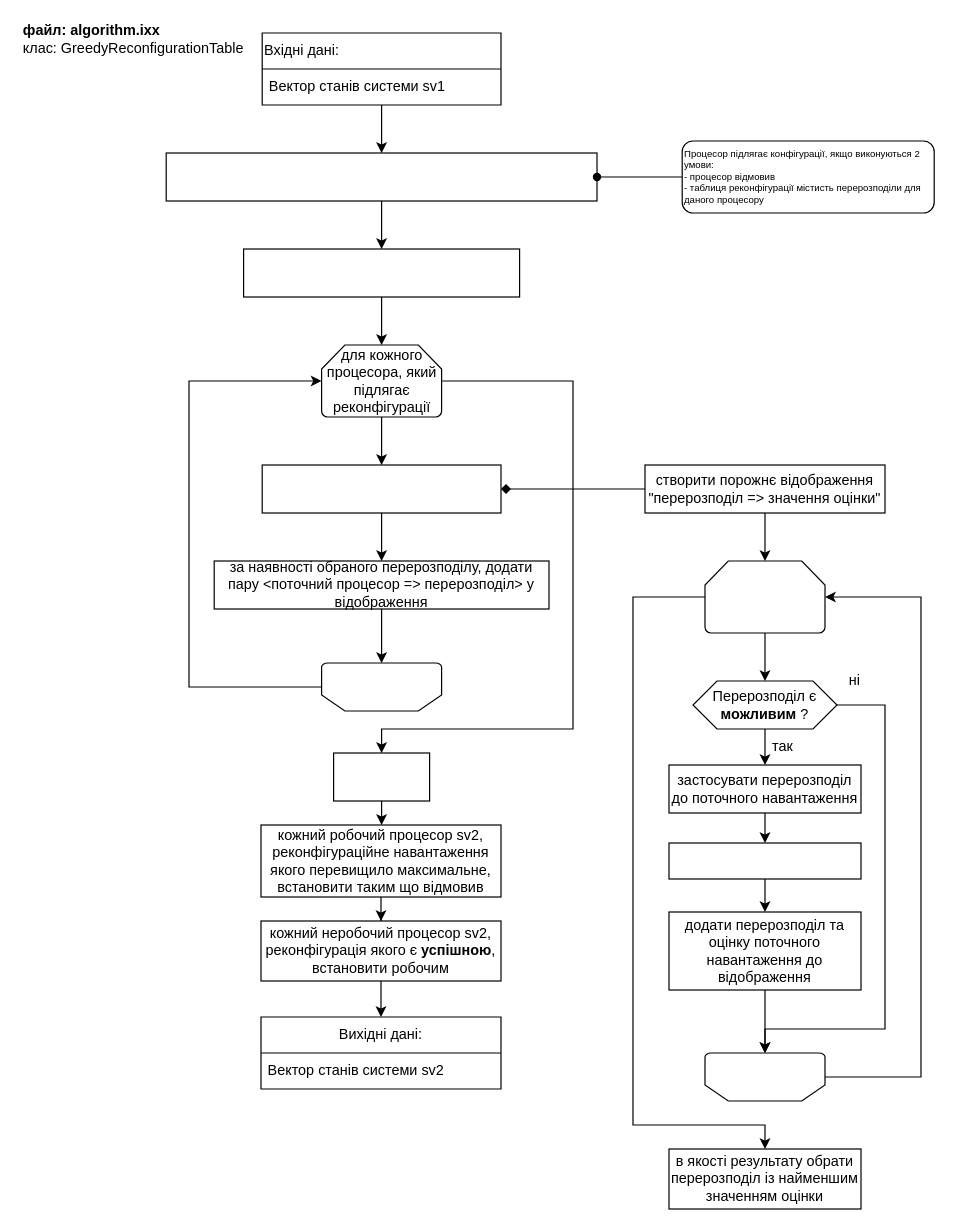
Image size: 955x1230. Some labels were removed from this diagram. Here are the shapes that lost their labels. From the top down, the centre of each, then its label:
the point at 381,176: Сформувати список процесорів, які підлягають реконфігурації
the point at 381,272: створити порожнє відображення "процесор => перерозподіл"
the point at 381,488: обрати найкращий перерозподіл для поточного процесору
the point at 764,596: для кожного перерозподілу поточного процесору
the point at 381,776: sv2 = sv1
the point at 764,860: оцінити поточне навантаження
